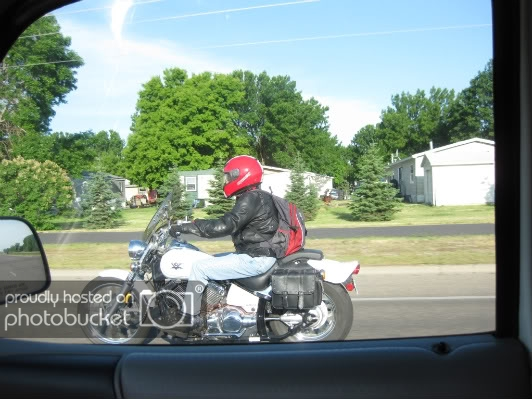helmet: (220, 151, 264, 195)
